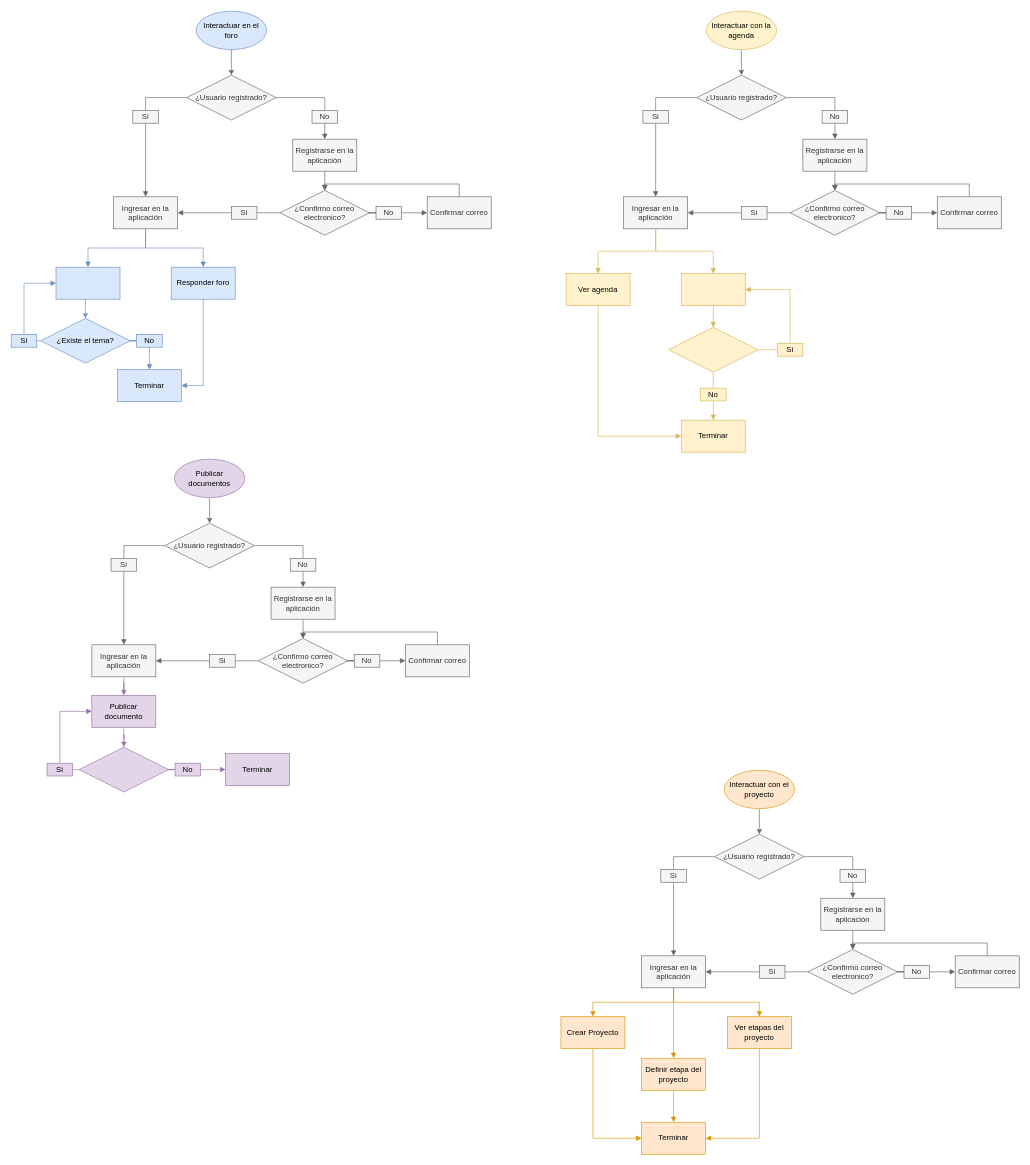
The diagram is 1030 pixels wide and 1165 high, and some of its shapes have lost their labels. Here are the shapes that lost their labels. From the top down, the centre of each, then its label:
At (x=87, y=283): "Publicar foro".
At (x=713, y=289): "Agendar actividades".
At (x=713, y=349): "¿Se cruza con otra actividad?".
At (x=123, y=769): "¿Pesa mas de lo permitido?".
